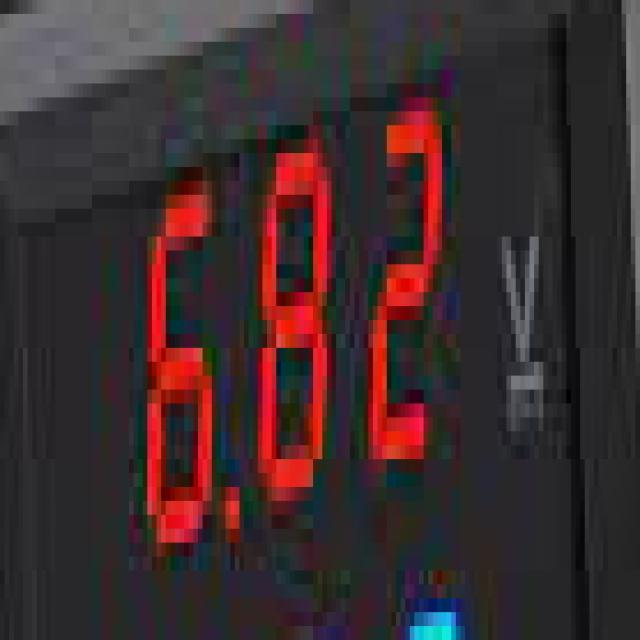.: (224, 468, 242, 544)
2: (366, 96, 486, 515)
6: (127, 139, 236, 578)
8: (253, 134, 347, 516)
screen: (18, 14, 585, 640)
